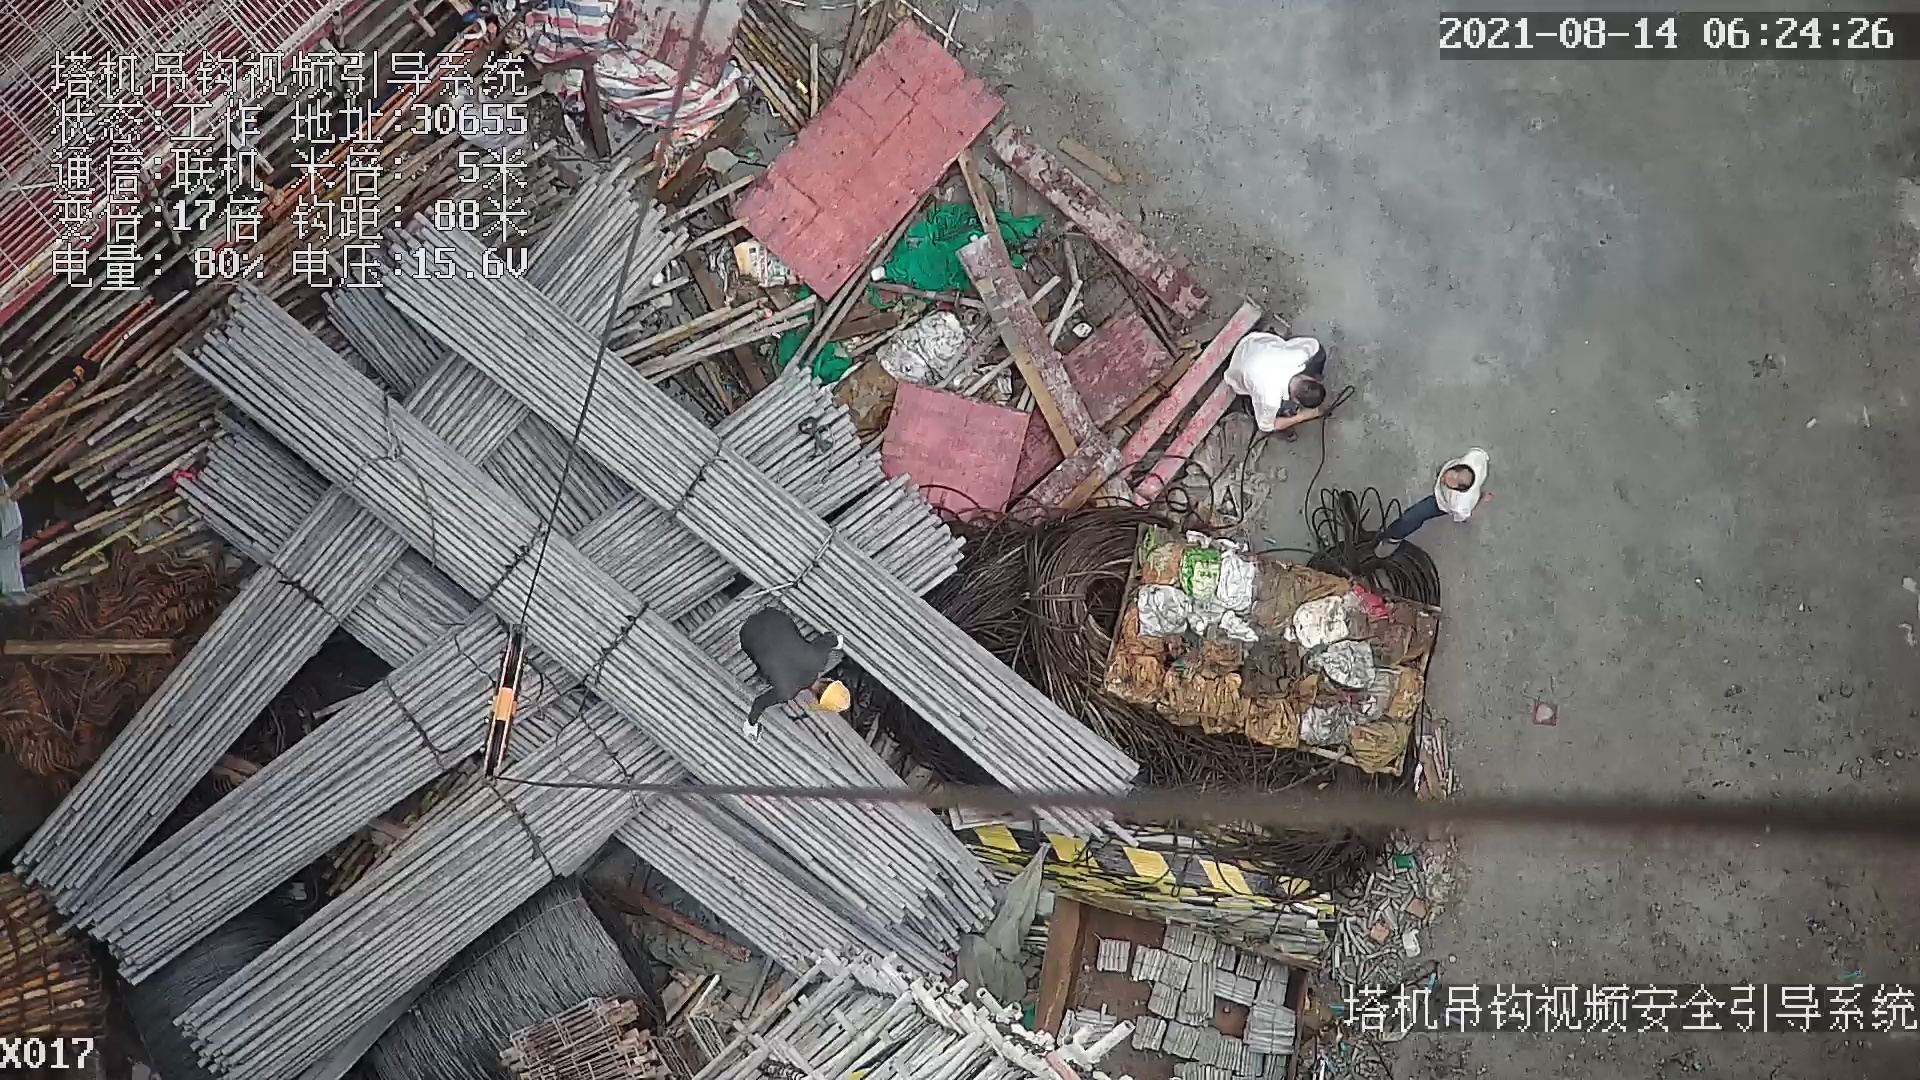helmet: (818, 680, 851, 711)
hook: (479, 615, 544, 792)
person: (729, 603, 862, 746), (1364, 435, 1495, 563), (1226, 323, 1332, 436)
rebar: (181, 284, 954, 933), (378, 279, 1147, 845), (173, 707, 688, 1080), (67, 611, 578, 985), (12, 481, 409, 914)
wood: (1, 872, 111, 1030)
